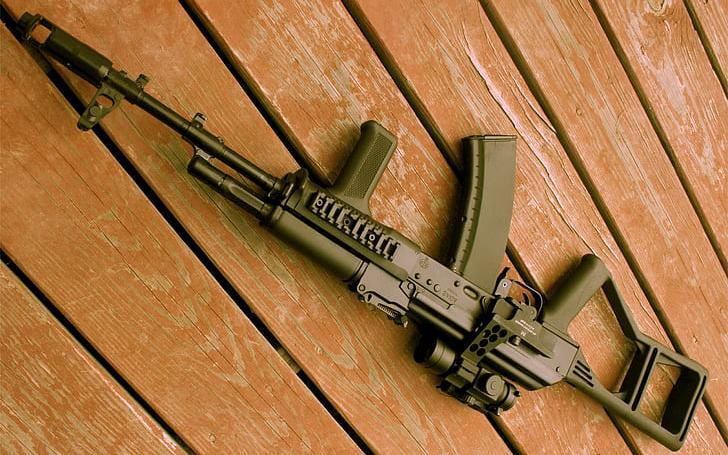larga: (15, 10, 710, 455)
